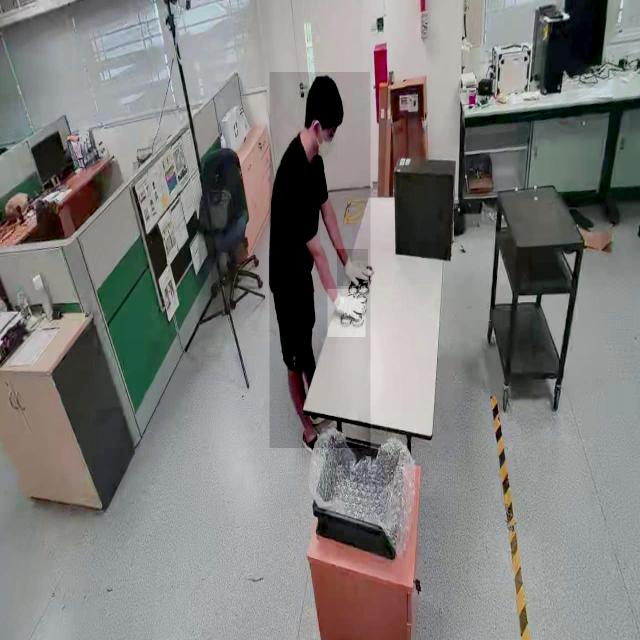face_mask: (312, 118, 337, 164)
hand_glove: (327, 289, 365, 338), (336, 249, 368, 287)
head_nohelmet: (306, 75, 345, 112)
person: (269, 72, 371, 449)
